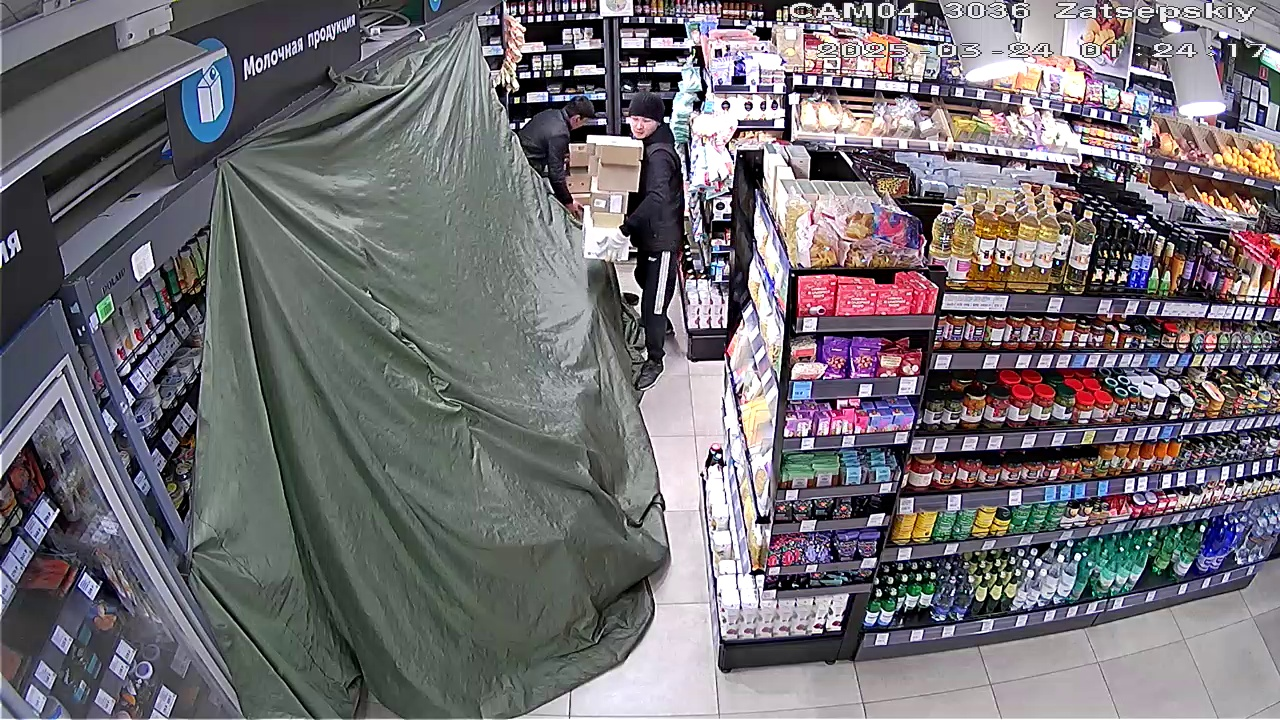Human: (600, 91, 687, 370), (507, 60, 592, 182)
dome: (215, 93, 664, 719)
